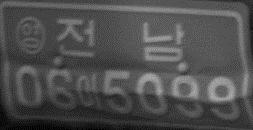0: (135, 71, 169, 115), (13, 63, 43, 109)
5: (103, 69, 133, 114)
6: (46, 67, 76, 111)
9: (171, 74, 205, 119), (208, 75, 241, 121)
아: (77, 73, 102, 108)
영: (14, 16, 45, 55)
전남_D: (55, 17, 185, 61)
